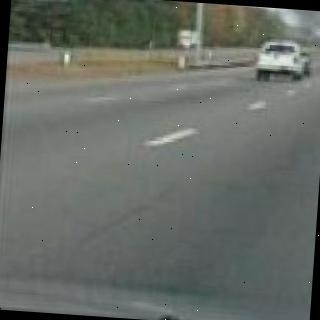smoke: (212, 3, 320, 53)
